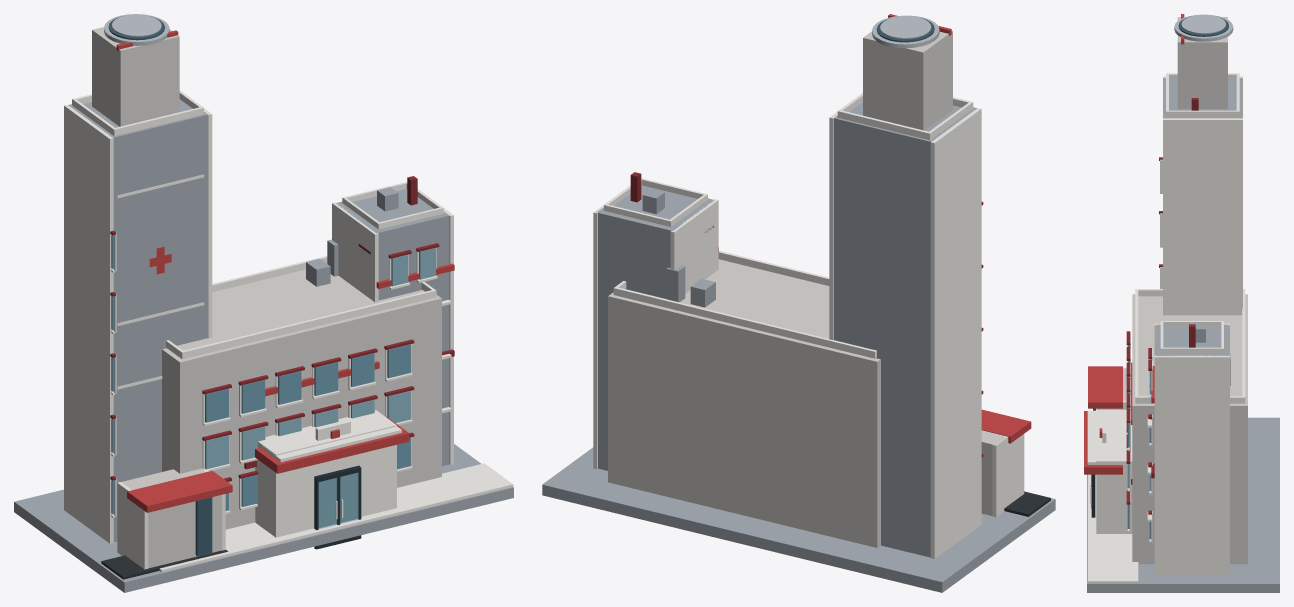
Rendered from hospital-building-wide.glb.
3 renders of one model, left to right at view 1: azimuth 30°, elevation 25°; view 2: azimuth 150°, elevation 25°; view 3: azimuth 270°, elevation 25°, orthographic. The views are drawn at different scales.
Visible parts, largest first — view 1: hospital_building_wide_form_fit, hospital_building_wide, hospital_glass_front_door_backplate, hospital_glass_front_door, hospital_wide_front_entry_window, hospital_glass_front_door_panel_left, hospital_glass_front_door_panel_right; view 2: hospital_building_wide_form_fit, hospital_building_wide; view 3: hospital_building_wide_form_fit, hospital_building_wide.
Part boxes in pixels (x1=…): hospital_building_wide_form_fit: x1=64, y1=14, x2=454, y2=569; hospital_building_wide: x1=14, y1=444, x2=513, y2=592; hospital_glass_front_door_backplate: x1=314, y1=465, x2=359, y2=548; hospital_glass_front_door: x1=315, y1=466, x2=361, y2=549; hospital_wide_front_entry_window: x1=195, y1=497, x2=212, y2=556; hospital_glass_front_door_panel_left: x1=318, y1=478, x2=337, y2=529; hospital_glass_front_door_panel_right: x1=340, y1=472, x2=358, y2=523; hospital_building_wide_form_fit: x1=593, y1=14, x2=1031, y2=558; hospital_building_wide: x1=542, y1=447, x2=1055, y2=592; hospital_building_wide_form_fit: x1=1084, y1=14, x2=1247, y2=574; hospital_building_wide: x1=1087, y1=417, x2=1279, y2=592.
Size of the model in its own units: 22.6 by 28.07 by 11.27.
